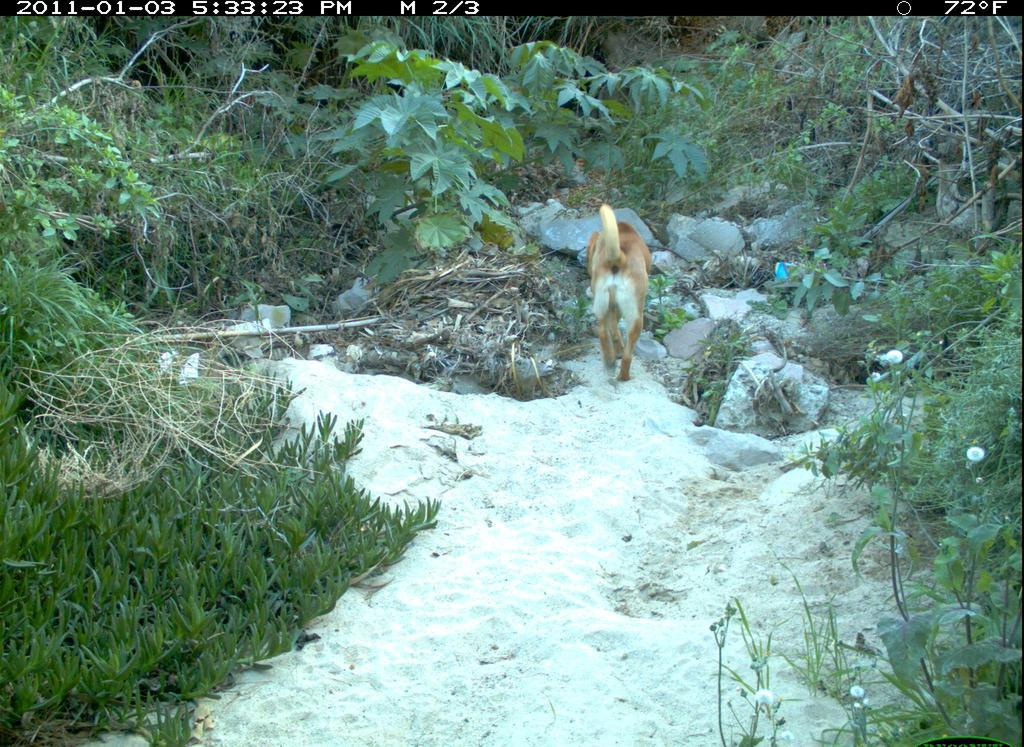dog: (575, 190, 662, 386)
